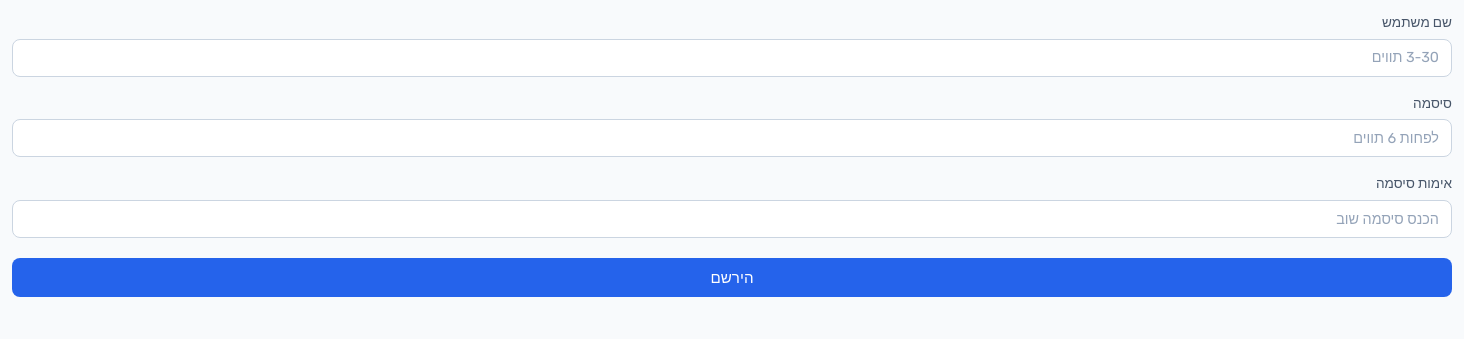
RegisterForm › shows validation error for password mismatch
The width and height of the screenshot is (1464, 339).
Type "password123" into the password field labelled "סיסמה" at (732, 138), box [12, 119, 1452, 158]
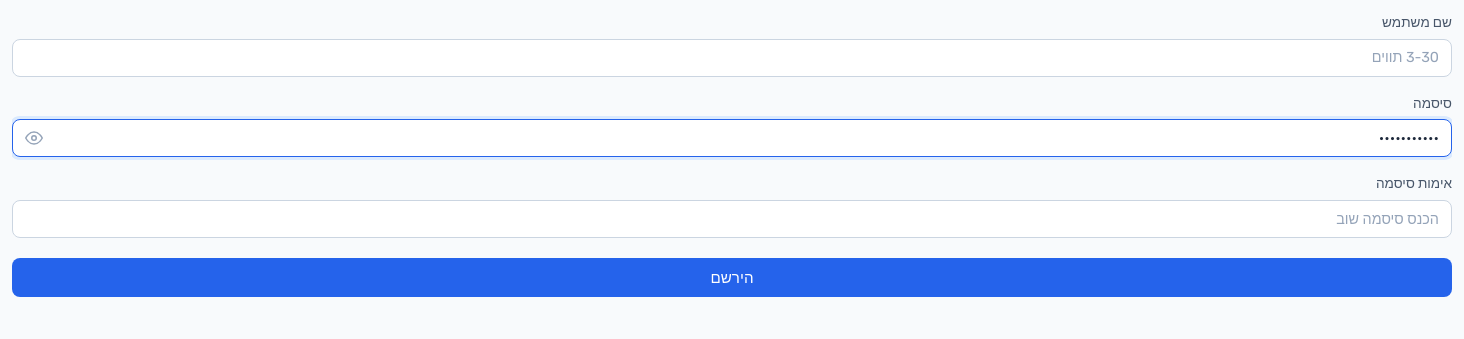
Type "different456" into the password field labelled "אימות סיסמה" at (732, 219), box [12, 200, 1452, 238]
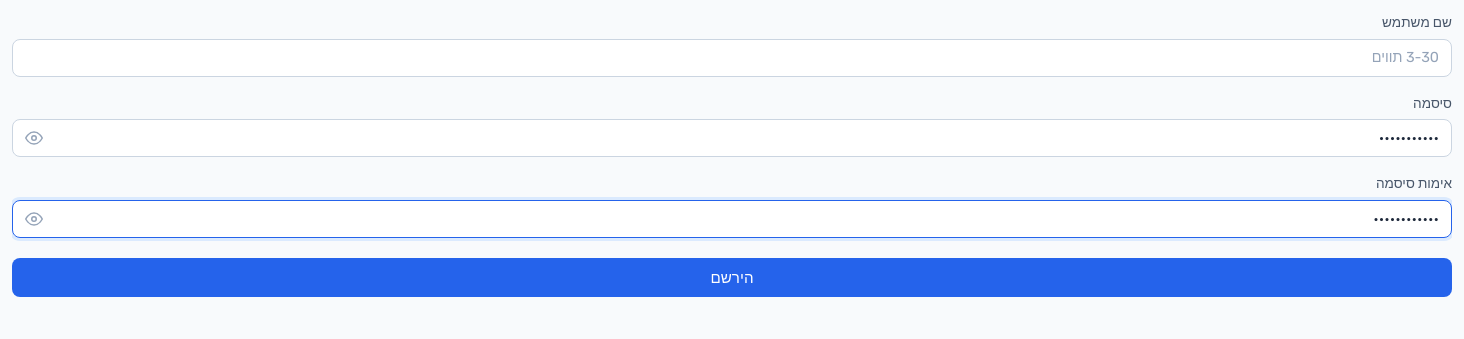
Leave the password field labelled "אימות סיסמה", box [12, 200, 1452, 238]
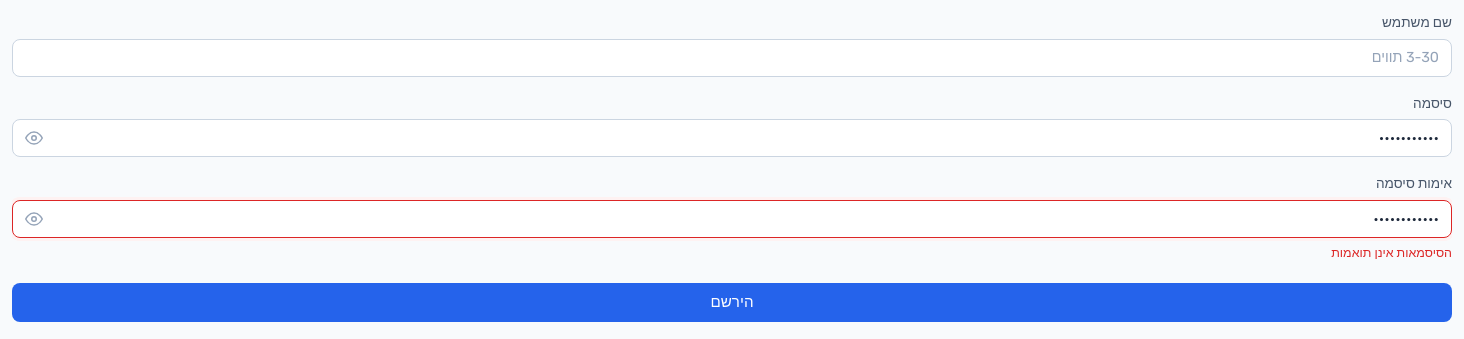
Expected: the text "הסיסמאות אינן תואמות" is shown, [1331, 245, 1452, 260]
